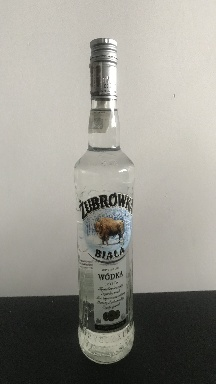butelka: (72, 35, 135, 367)
